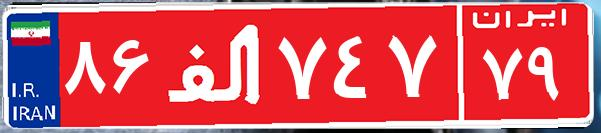4: (330, 28, 385, 110)
6: (110, 28, 158, 105)
7: (385, 28, 445, 110), (273, 28, 330, 110), (475, 38, 525, 113)
8: (57, 26, 110, 107)
9: (525, 38, 570, 115)
الف: (158, 15, 273, 115)
